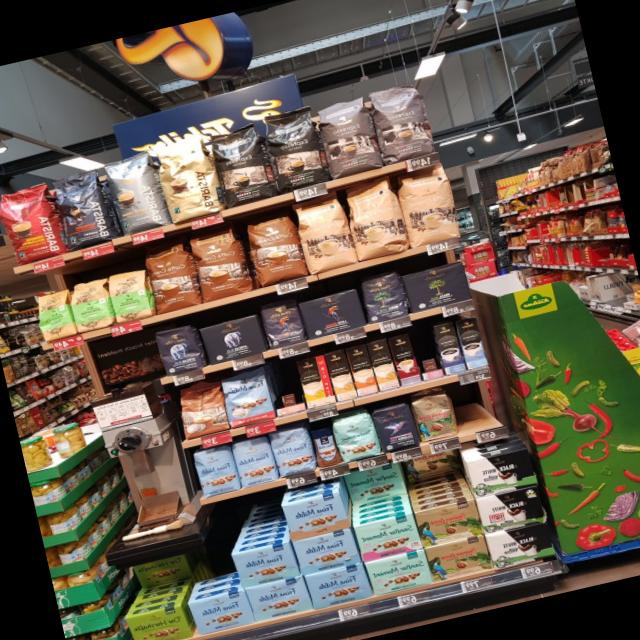AB Bohne: (152, 320, 208, 378)
AB Gemahlen: (198, 312, 270, 367)
Athiopien Bohne: (32, 286, 78, 344)
Athiopien Gemahlen: (104, 266, 154, 326), (66, 276, 116, 334)
BM Bohne: (358, 268, 410, 324)
BM Gemahlen: (399, 260, 474, 316)
BW Gemahlen: (465, 446, 537, 499), (485, 520, 556, 572), (475, 485, 546, 536)
Barista CB: (150, 128, 224, 228)
Barista CC: (102, 146, 170, 237)
Barista Espresso: (46, 160, 118, 254)
Barista Kolumbien: (0, 178, 64, 270)
C Fino Bohne: (370, 398, 421, 454)
CC Mild: (392, 162, 463, 250), (340, 174, 410, 262), (292, 188, 358, 276)
CC Vollmundig: (172, 376, 230, 440)
CC Vollmundig 36 Pads: (185, 220, 258, 304), (138, 235, 202, 317), (242, 210, 308, 288), (345, 342, 379, 398)
Colombia BB Bohne: (408, 386, 459, 446)
Colombia BB Gemahlen: (412, 498, 483, 549), (424, 533, 494, 583)
Empty Shelf: (447, 381, 494, 434), (266, 359, 306, 416), (410, 326, 444, 382)
Espresso Aromatisch: (364, 78, 440, 169), (313, 92, 384, 181)
Espresso Kraftig: (204, 116, 278, 210), (258, 103, 332, 196)
FM 36 Pads: (218, 364, 278, 428)
FM Bohne: (266, 422, 316, 480), (192, 442, 242, 498), (230, 432, 279, 488)
FM Gemahlen: (280, 488, 350, 542), (229, 538, 301, 590), (304, 560, 372, 612), (291, 526, 361, 576), (244, 573, 314, 623), (186, 587, 255, 635)
FM Instant: (306, 421, 342, 468)
Herzhatfe Mundig: (123, 603, 193, 640)
LG Bohne: (256, 296, 308, 351)
LG Gemahlen: (298, 287, 368, 340)
SM Bohne: (330, 408, 381, 463)
SM Gemahlen: (353, 512, 422, 563), (364, 548, 434, 596), (343, 459, 409, 506)
Simo CCMild: (294, 353, 336, 409)
Simo Decaff: (366, 336, 400, 393)
Simo Es Kraft: (388, 332, 422, 388)
Simo Kaffee Kraft: (432, 320, 465, 376)
Simo Kaffee Mild: (454, 315, 488, 370)
